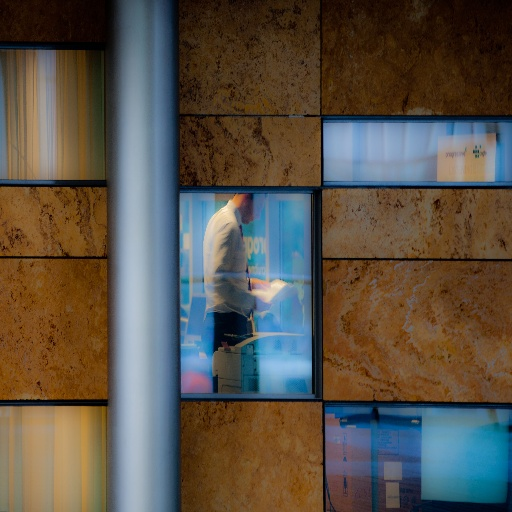hand: (255, 297, 273, 312), (255, 279, 268, 290)
